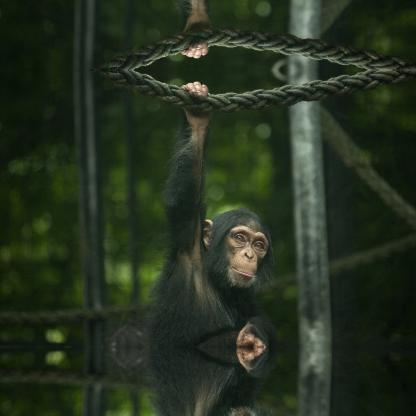Monkey: (111, 78, 273, 346), (111, 346, 274, 415), (111, 0, 274, 60)
